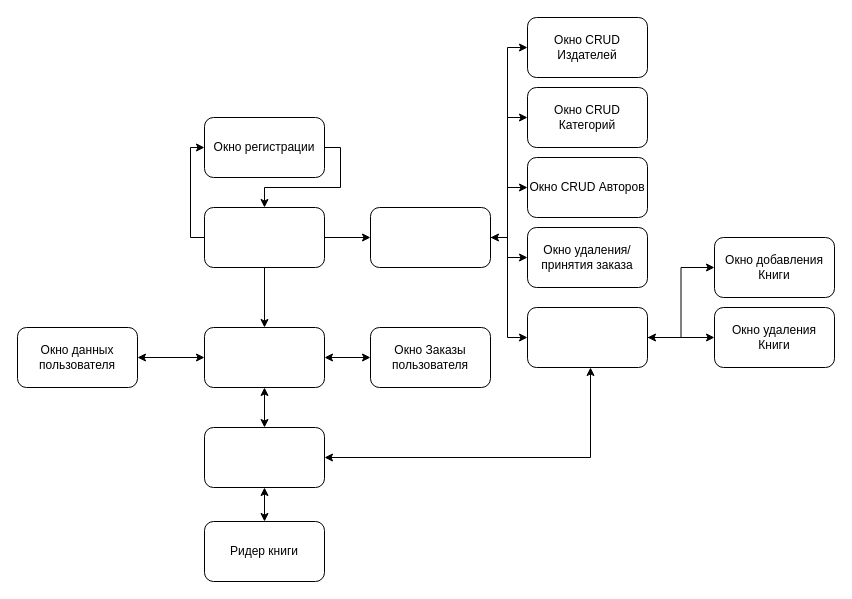
This 852x599 diagram has some shape labels left out. Here are the shapes that lost their labels. From the top down, the box of each, then its label:
(204, 206, 324, 268): Окно входа
(370, 206, 490, 268): Окно администратора
(204, 326, 324, 388): Главное окно пользователя
(526, 306, 648, 368): Главное окно администратора
(204, 426, 324, 488): Детали книги
